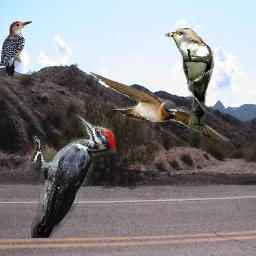Cuckoo: (165, 28, 214, 130)
Swallow: (86, 68, 230, 142)
Woodpecker: (31, 114, 116, 238), (0, 21, 32, 76)
